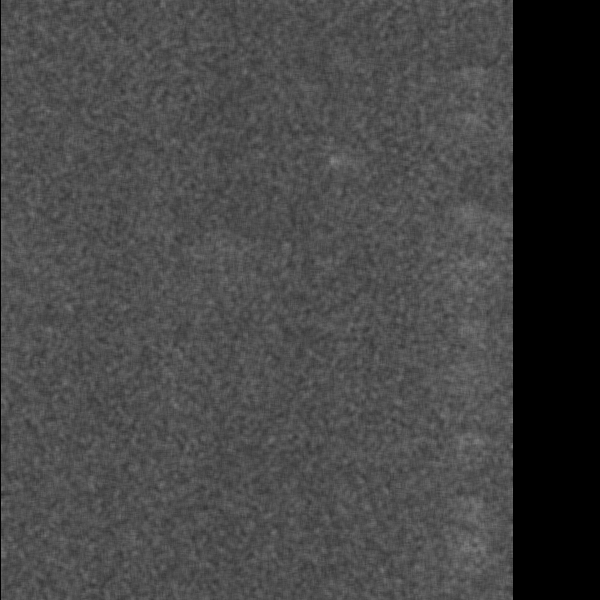spark: (397, 115, 462, 186)
